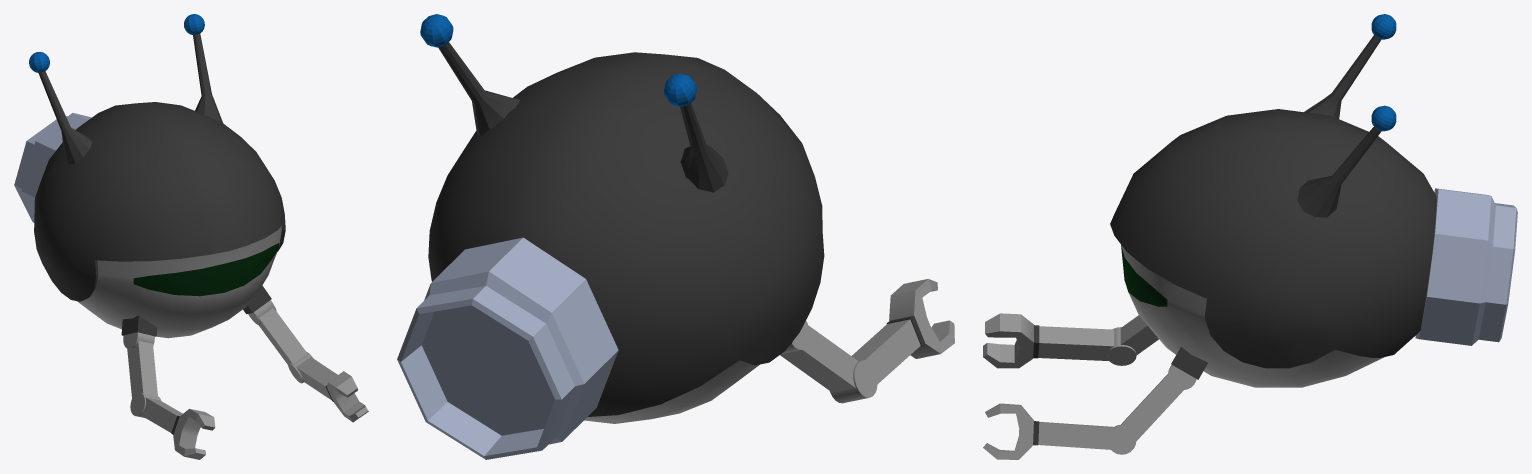
The picture shows the model from 3 angles, left to right: view 1: azimuth 30°, elevation 25°; view 2: azimuth 150°, elevation 25°; view 3: azimuth 270°, elevation 25°; orthographic projection. The views are drawn at different scales.
Parts seen in each view (by area): view 1: Boby, R_arm, L_arm, Back; view 2: Boby, Back, R_arm; view 3: Boby, Back, R_arm, L_arm.
Boxes of the visible parts, box(x1,y1,x2,y2) form: Boby: box(29, 14, 285, 338); R_arm: box(123, 332, 215, 459); L_arm: box(248, 300, 368, 422); Back: box(14, 113, 91, 222); Boby: box(420, 14, 824, 423); Back: box(397, 237, 618, 459); R_arm: box(780, 279, 954, 403); Boby: box(1110, 14, 1436, 387); Back: box(1415, 188, 1517, 345); R_arm: box(983, 313, 1158, 368); L_arm: box(983, 365, 1196, 459).
Bounding box in the file's own units: 22.82 × 29.96 × 41.18.
